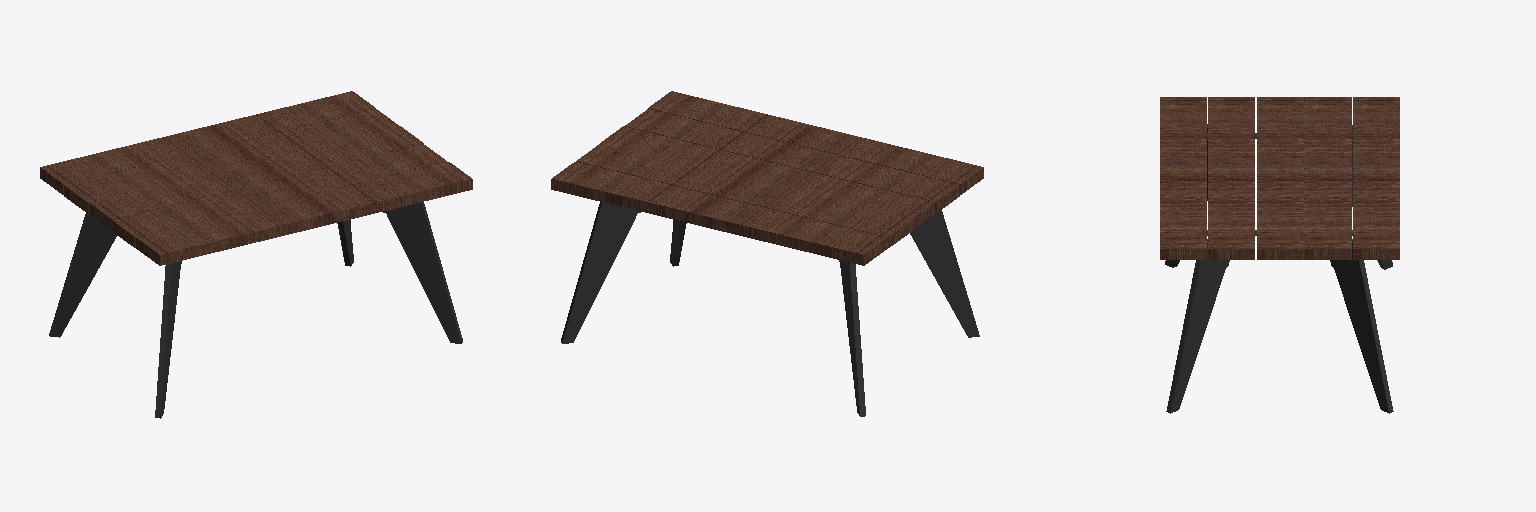
3 views of the same model, side by side, from view 1: azimuth 30°, elevation 25°; view 2: azimuth 150°, elevation 25°; view 3: azimuth 270°, elevation 25° (orthographic).
Visible parts, largest first — view 1: Mesh9 Group9 Group8 Group1 Component1 Model, Mesh12 Group12 Group8 Group1 Component1 Model, Mesh11 Group11 Group8 Group1 Component1 Model, Mesh10 Group10 Group8 Group1 Component1 Model, Mesh13 Group13 Group8 Group1 Component1 Model, Mesh8 Legs4 Group2 Group1 Component1 Model, Mesh7 Legs3 Group2 Group1 Component1 Model, Mesh5 Legs1 Group2 Group1 Component1 Model; view 2: Mesh11 Group11 Group8 Group1 Component1 Model, Mesh12 Group12 Group8 Group1 Component1 Model, Mesh9 Group9 Group8 Group1 Component1 Model, Mesh10 Group10 Group8 Group1 Component1 Model, Mesh13 Group13 Group8 Group1 Component1 Model, Mesh6 Legs2 Group2 Group1 Component1 Model, Mesh5 Legs1 Group2 Group1 Component1 Model, Mesh7 Legs3 Group2 Group1 Component1 Model; view 3: Mesh12 Group12 Group8 Group1 Component1 Model, Mesh9 Group9 Group8 Group1 Component1 Model, Mesh10 Group10 Group8 Group1 Component1 Model, Mesh11 Group11 Group8 Group1 Component1 Model, Mesh13 Group13 Group8 Group1 Component1 Model, Mesh6 Legs2 Group2 Group1 Component1 Model, Mesh8 Legs4 Group2 Group1 Component1 Model.
Boxes of the visible parts, x1,y1,x2,y2 form: Mesh9 Group9 Group8 Group1 Component1 Model: [136, 162, 472, 265]; Mesh12 Group12 Group8 Group1 Component1 Model: [64, 109, 398, 213]; Mesh11 Group11 Group8 Group1 Component1 Model: [40, 91, 375, 194]; Mesh10 Group10 Group8 Group1 Component1 Model: [112, 144, 446, 247]; Mesh13 Group13 Group8 Group1 Component1 Model: [89, 126, 423, 229]; Mesh8 Legs4 Group2 Group1 Component1 Model: [383, 202, 462, 343]; Mesh7 Legs3 Group2 Group1 Component1 Model: [49, 213, 116, 337]; Mesh5 Legs1 Group2 Group1 Component1 Model: [155, 261, 181, 418]; Mesh11 Group11 Group8 Group1 Component1 Model: [551, 162, 887, 265]; Mesh12 Group12 Group8 Group1 Component1 Model: [576, 144, 912, 247]; Mesh9 Group9 Group8 Group1 Component1 Model: [648, 91, 983, 194]; Mesh10 Group10 Group8 Group1 Component1 Model: [625, 109, 959, 212]; Mesh13 Group13 Group8 Group1 Component1 Model: [600, 126, 934, 228]; Mesh6 Legs2 Group2 Group1 Component1 Model: [561, 202, 640, 343]; Mesh5 Legs1 Group2 Group1 Component1 Model: [910, 210, 979, 337]; Mesh7 Legs3 Group2 Group1 Component1 Model: [839, 260, 865, 416]; Mesh12 Group12 Group8 Group1 Component1 Model: [1304, 97, 1351, 259]; Mesh9 Group9 Group8 Group1 Component1 Model: [1160, 97, 1206, 259]; Mesh10 Group10 Group8 Group1 Component1 Model: [1208, 97, 1254, 259]; Mesh11 Group11 Group8 Group1 Component1 Model: [1353, 97, 1399, 259]; Mesh13 Group13 Group8 Group1 Component1 Model: [1257, 97, 1303, 259]; Mesh6 Legs2 Group2 Group1 Component1 Model: [1330, 239, 1393, 413]; Mesh8 Legs4 Group2 Group1 Component1 Model: [1166, 239, 1229, 413].
Bounding box in the file's own units: 20.48 × 10.38 × 13.59.
Materials: 2 (1 with a texture image).